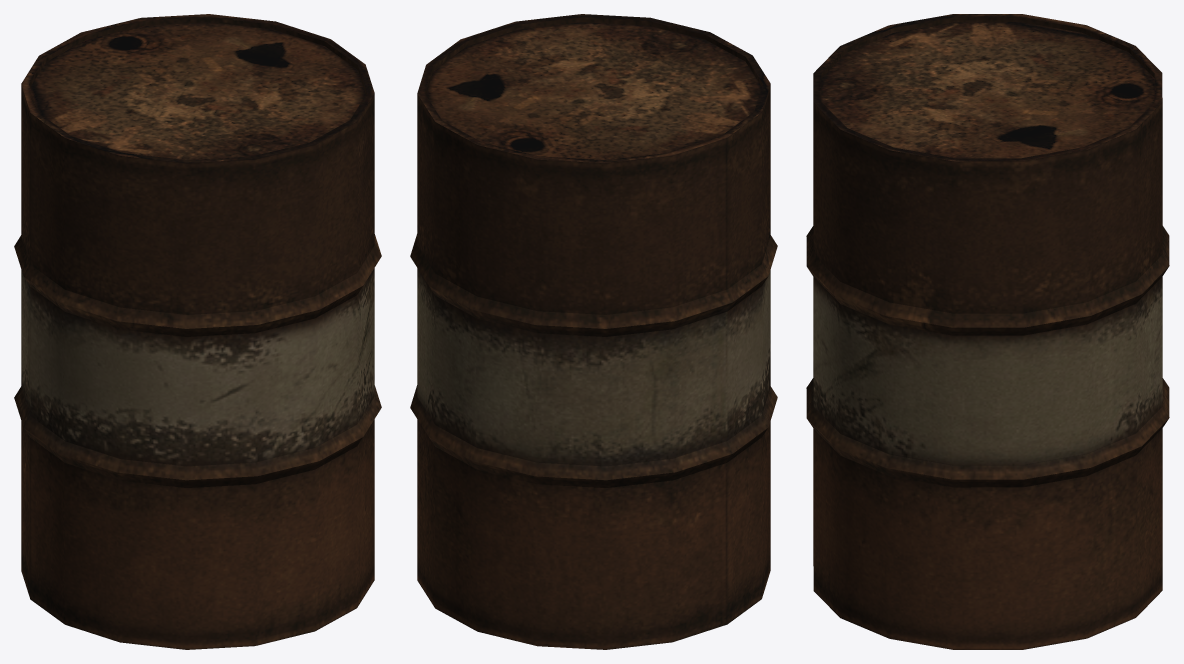
The model's file is metal_barrel_hr_2.obj.
The picture shows the model from 3 angles, left to right: view 1: azimuth 30°, elevation 25°; view 2: azimuth 150°, elevation 25°; view 3: azimuth 270°, elevation 25°; orthographic projection.
Parts seen in each view (by area): view 1: metal_barrel_hr_2; view 2: metal_barrel_hr_2; view 3: metal_barrel_hr_2.
Boxes of the visible parts, x1,y1,x2,y2 form: metal_barrel_hr_2: (14, 14, 381, 649); metal_barrel_hr_2: (410, 14, 777, 649); metal_barrel_hr_2: (806, 14, 1169, 649).
Size of the model in its own units: 0.6735 by 1 by 0.6735.
